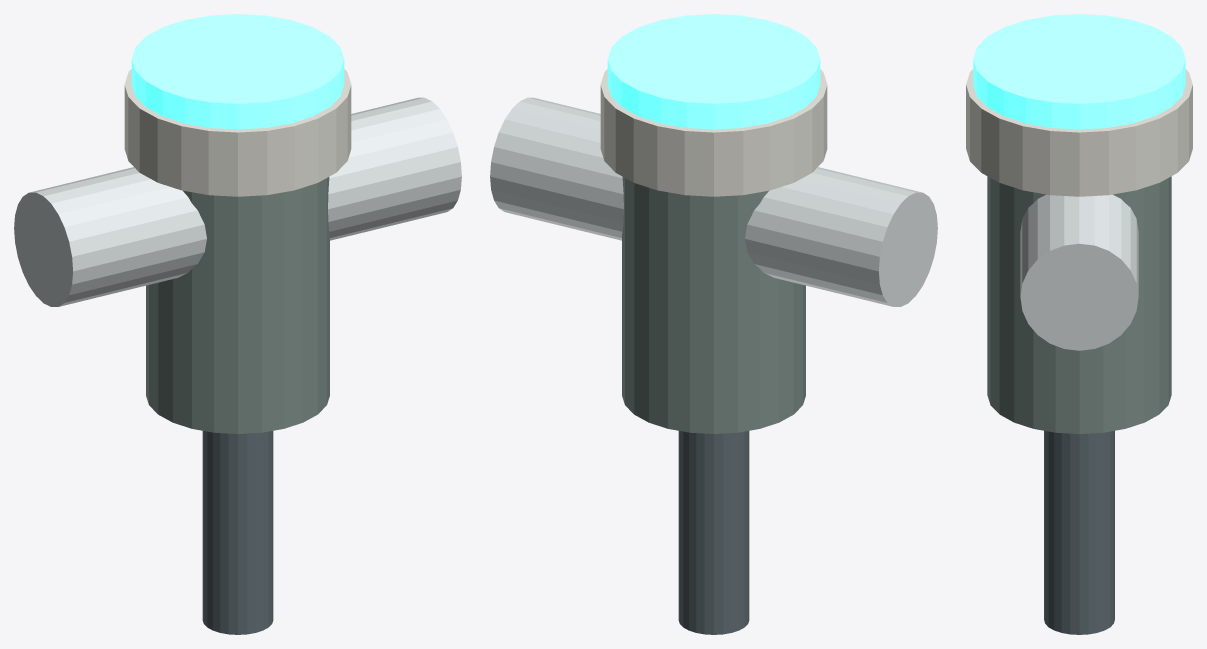
The model's file is s7-i05-dripper-inline.glb.
3 renders of one model, left to right at view 1: azimuth 30°, elevation 25°; view 2: azimuth 150°, elevation 25°; view 3: azimuth 270°, elevation 25°, orthographic.
Parts seen in each view (by area): view 1: 000_dripper_body, 004_inline_barrel, 002_flow_cap, 001_upper_dripper_collar, 003_soil_stake; view 2: 000_dripper_body, 004_inline_barrel, 002_flow_cap, 001_upper_dripper_collar, 003_soil_stake; view 3: 000_dripper_body, 002_flow_cap, 004_inline_barrel, 001_upper_dripper_collar, 003_soil_stake.
Part boxes in pixels (x1=…): 000_dripper_body: x1=146, y1=177, x2=329, y2=433; 004_inline_barrel: x1=14, y1=97, x2=461, y2=306; 002_flow_cap: x1=131, y1=14, x2=344, y2=129; 001_upper_dripper_collar: x1=124, y1=69, x2=351, y2=196; 003_soil_stake: x1=202, y1=431, x2=273, y2=634; 000_dripper_body: x1=622, y1=177, x2=805, y2=433; 004_inline_barrel: x1=490, y1=97, x2=937, y2=306; 002_flow_cap: x1=607, y1=14, x2=820, y2=129; 001_upper_dripper_collar: x1=600, y1=69, x2=827, y2=196; 003_soil_stake: x1=678, y1=431, x2=749, y2=634; 000_dripper_body: x1=987, y1=176, x2=1171, y2=433; 002_flow_cap: x1=973, y1=14, x2=1185, y2=129; 004_inline_barrel: x1=1020, y1=194, x2=1138, y2=350; 001_upper_dripper_collar: x1=966, y1=69, x2=1192, y2=196; 003_soil_stake: x1=1044, y1=430, x2=1114, y2=634.
Bounding box in the file's own units: 0.19 × 0.262 × 0.096.
